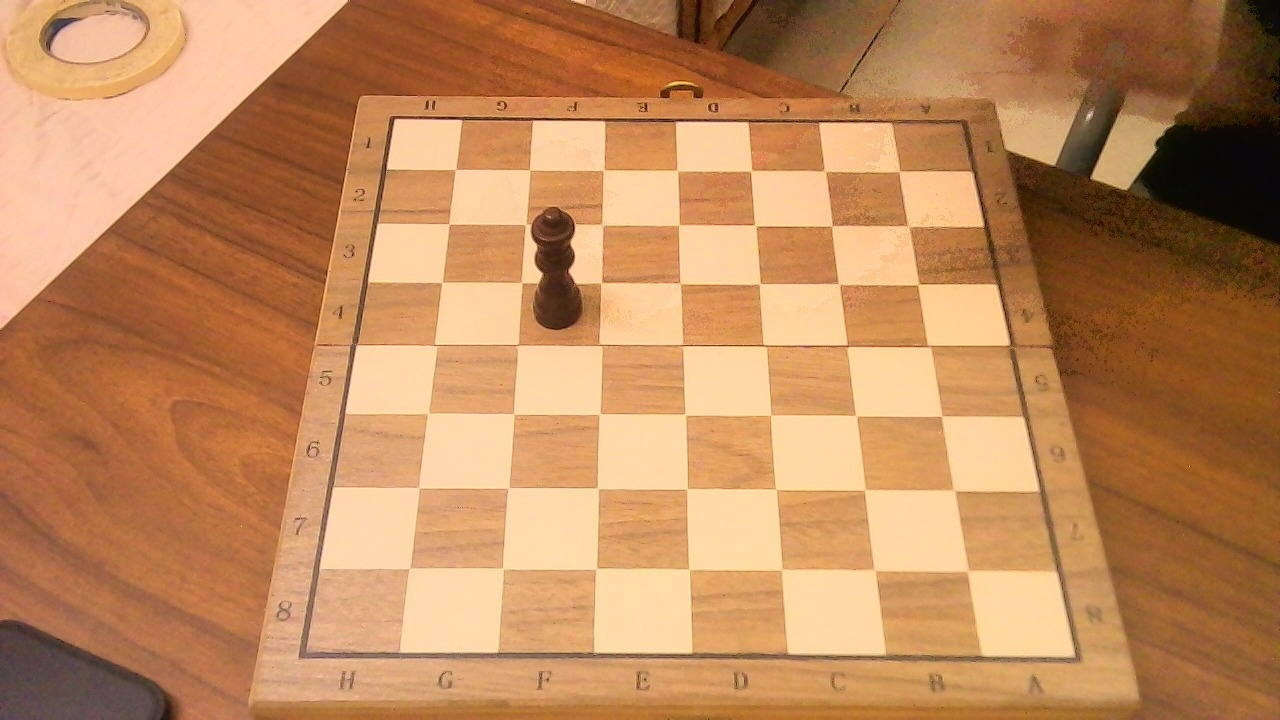q: (526, 194, 595, 332)
